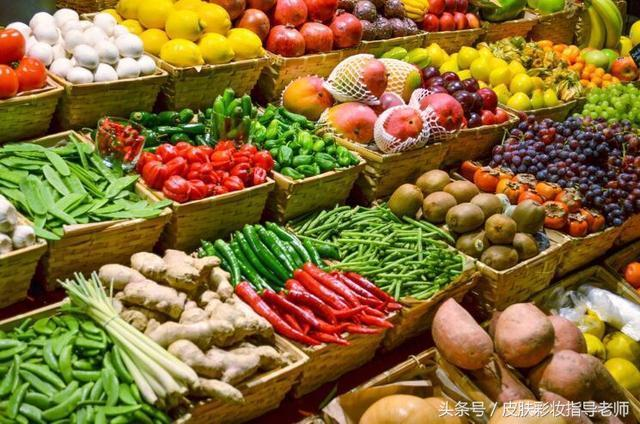apple: (234, 8, 270, 43), (266, 26, 305, 57), (331, 14, 362, 47), (301, 23, 333, 52)
